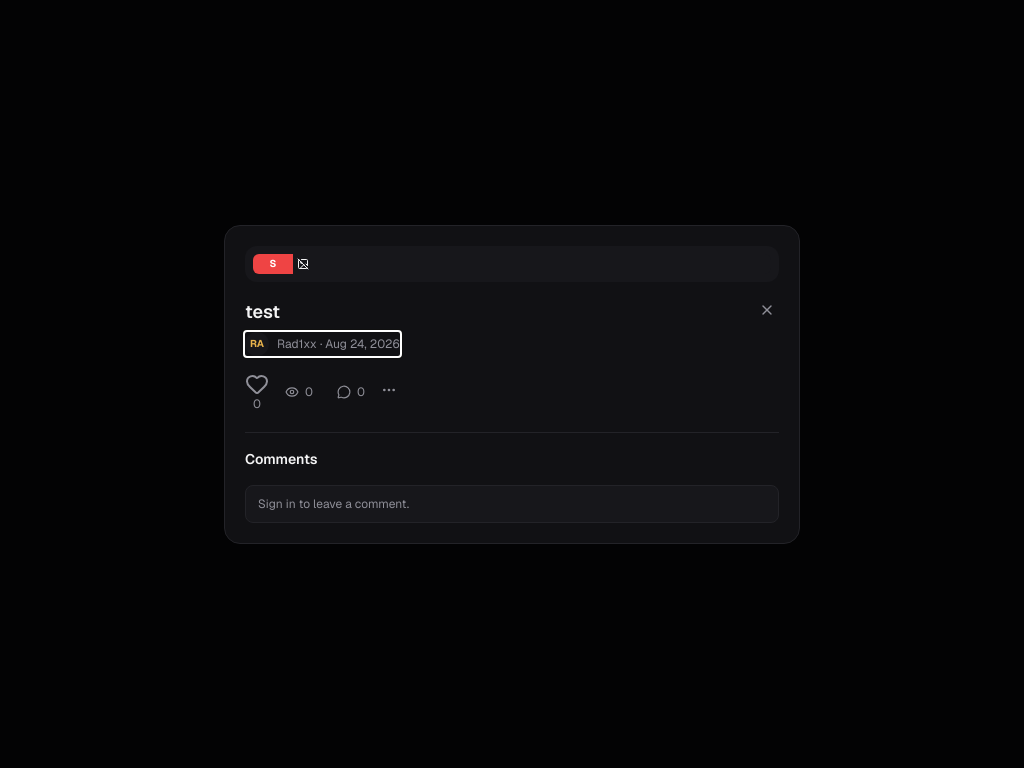
Test case: downloading a post as a picture › is offered to any visitor, not only the author
Click the button named "more post actions". click: (389, 390)
box: [381, 382, 397, 398]
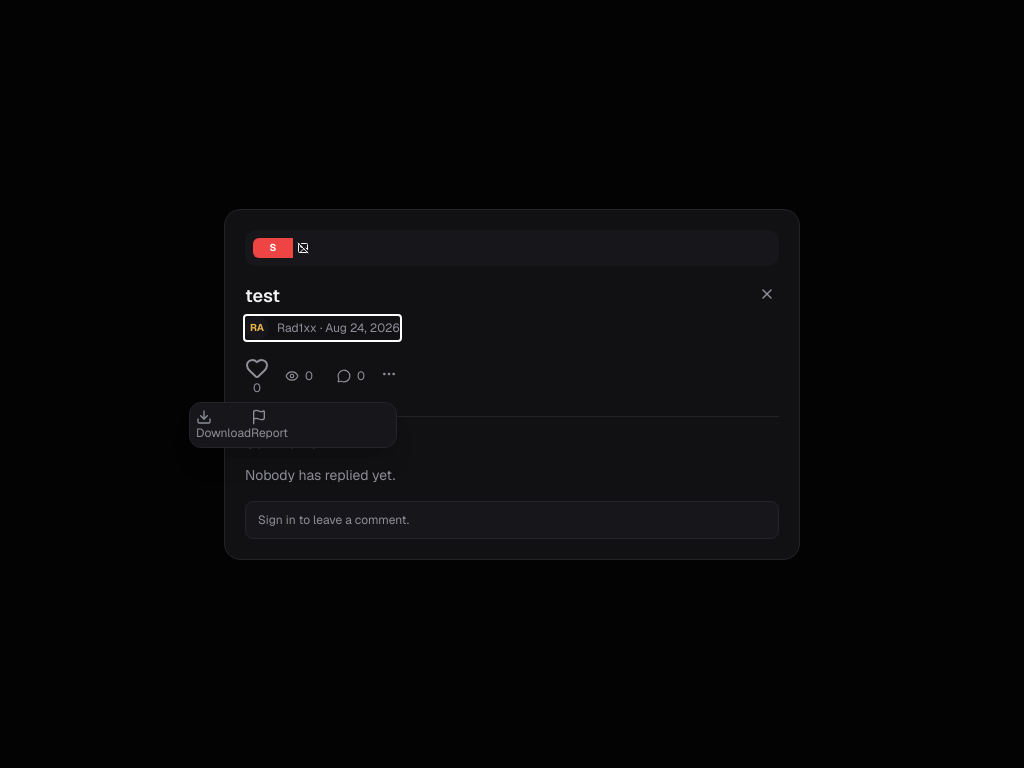
Expected: the menu item "Download" is shown, [196, 408, 251, 440]
